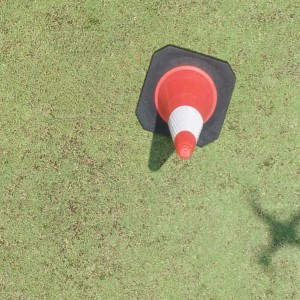traffic cone: (135, 44, 236, 159)
